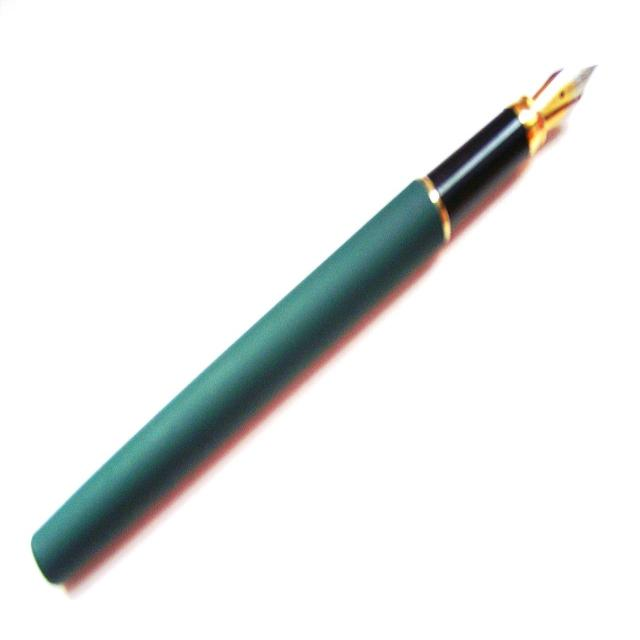pen: (27, 48, 598, 579)
